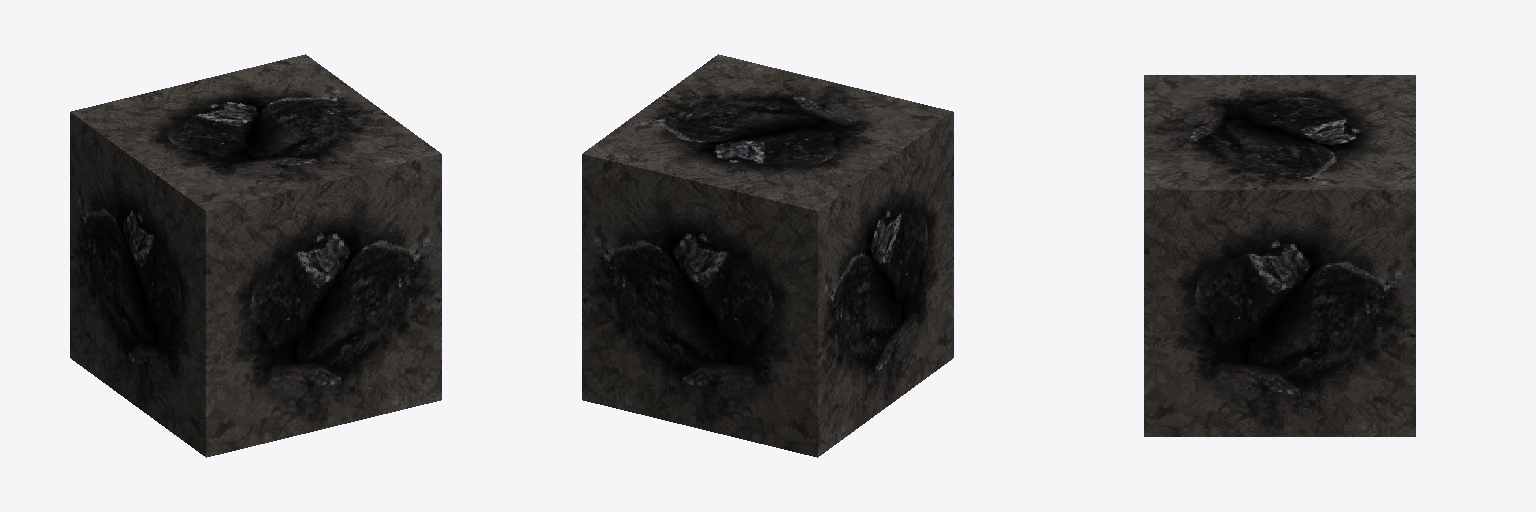
The picture shows the model from 3 angles: view 1: azimuth 30°, elevation 25°; view 2: azimuth 150°, elevation 25°; view 3: azimuth 270°, elevation 25°; orthographic projection.
Visible parts, largest first — view 1: Cube; view 2: Cube; view 3: Cube.
Part boxes in pixels (x1,y1,x2,y2): Cube: (70,54,441,457); Cube: (582,54,953,457); Cube: (1144,75,1415,436).
Size of the model in its own units: 2 by 2 by 2.
1 materials, 1 textured.